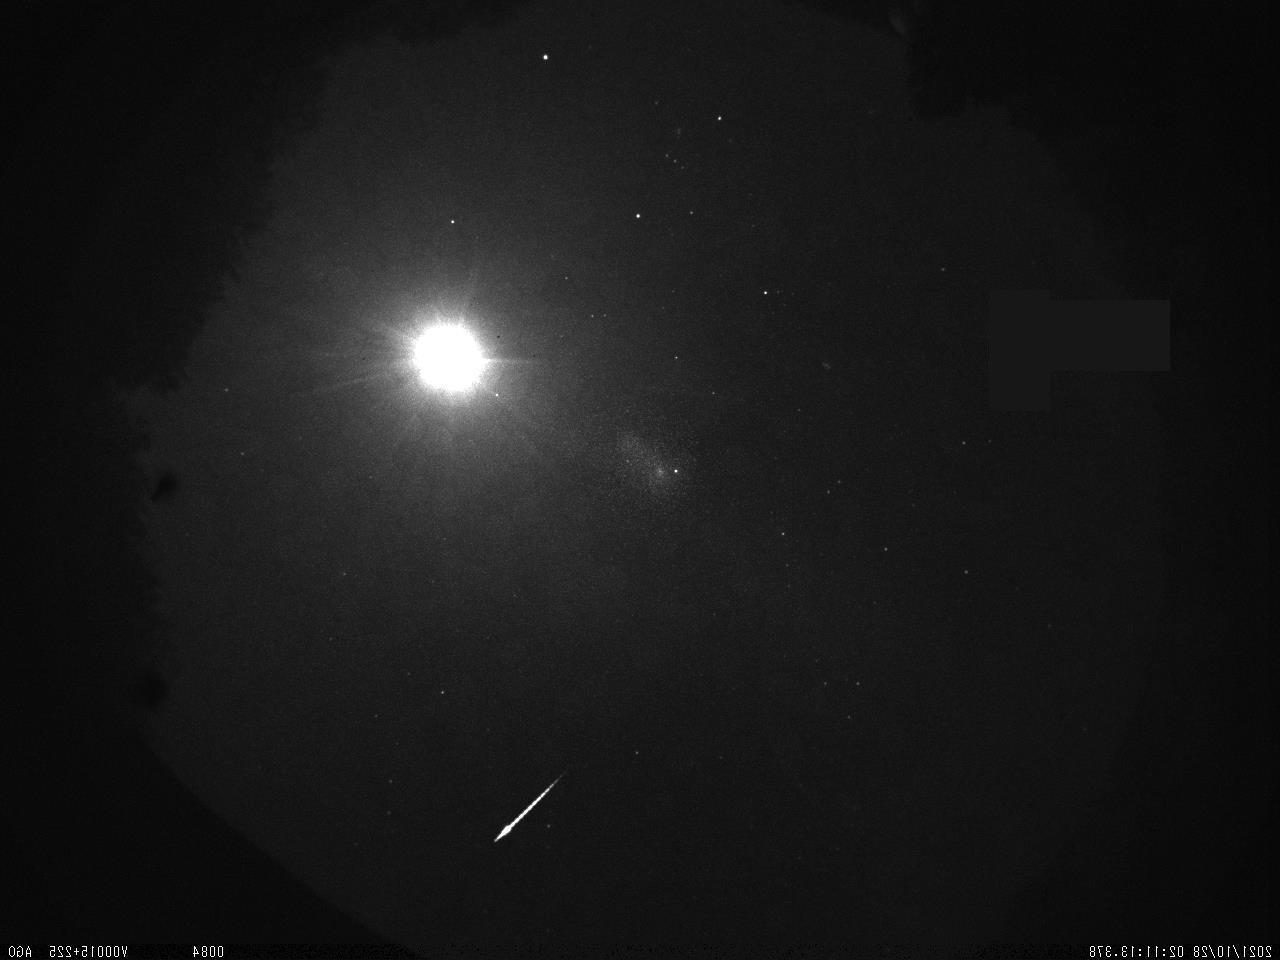meteor: (474, 757, 575, 872)
